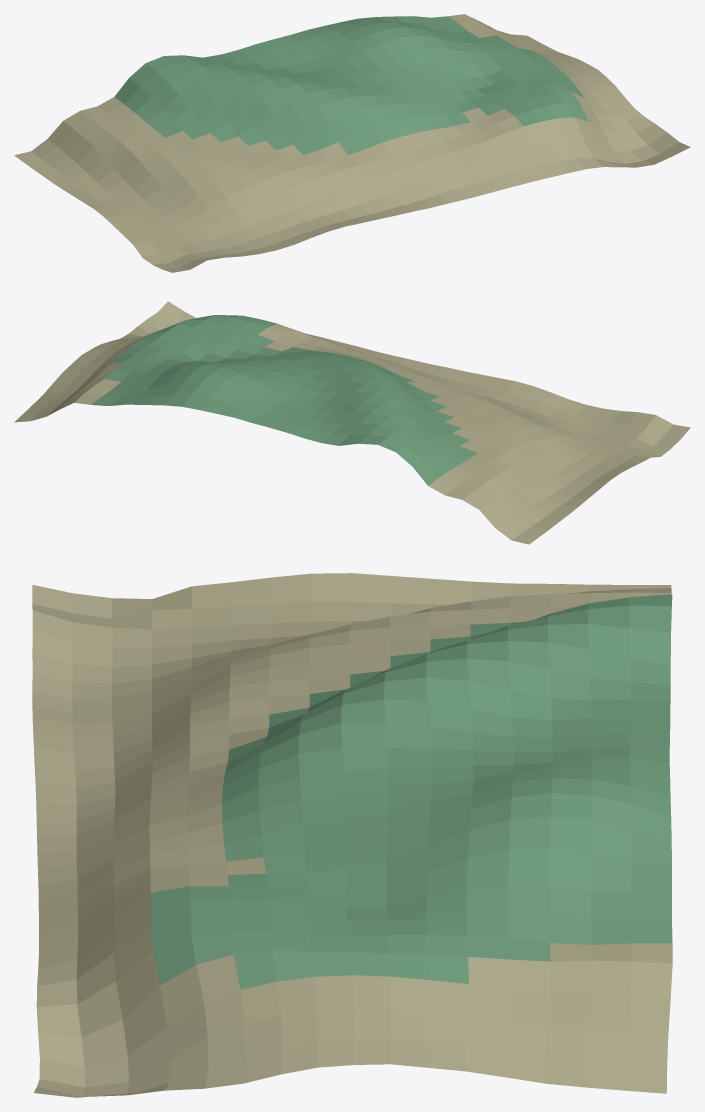
The model's file is two.fbx.
3 renders of one model, top to bottom at view 1: azimuth 30°, elevation 25°; view 2: azimuth 150°, elevation 25°; view 3: azimuth 270°, elevation 25°, orthographic. The views are drawn at different scales.
Parts seen in each view (by area): view 1: Island; view 2: Island; view 3: Island.
Boxes of the visible parts, left/top/right/bottom form: Island: left=14, top=14, right=690, bottom=272; Island: left=14, top=301, right=690, bottom=544; Island: left=32, top=573, right=672, bottom=1097.
Size of the model in its own units: 39.98 by 5.95 by 21.38.
